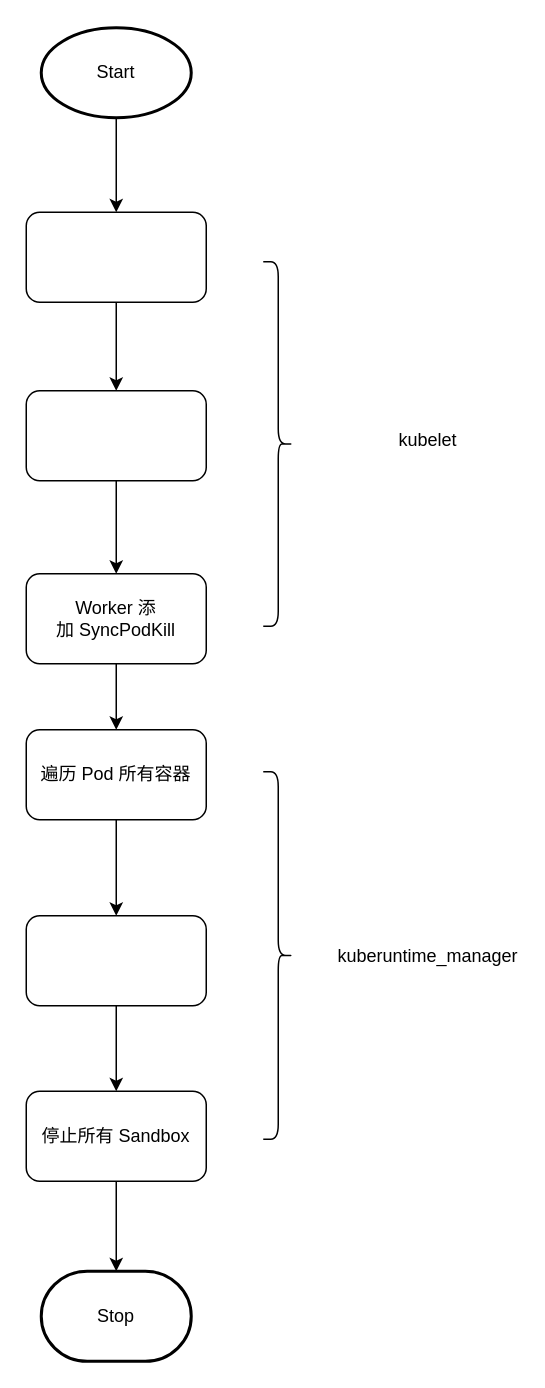
The diagram is 545 pixels wide and 1388 high, and some of its shapes have lost their labels. The centre of each missing label's shape, as x and y in pixels:
接收删除请求: the point at 115,256
设置杀死容器的宽限期: the point at 115,960
调用deletePod: the point at 115,435
